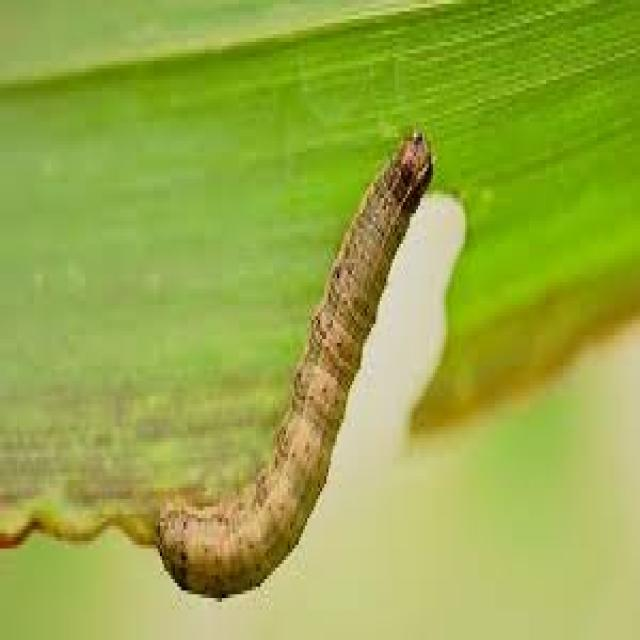Fall-Armyworm: (142, 124, 455, 602)
